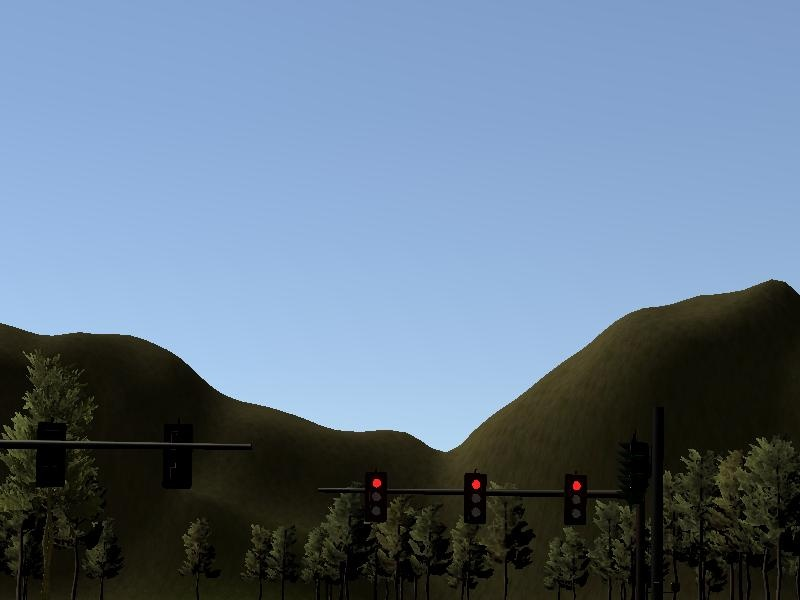traffic_light_red: (346, 472, 625, 528)
